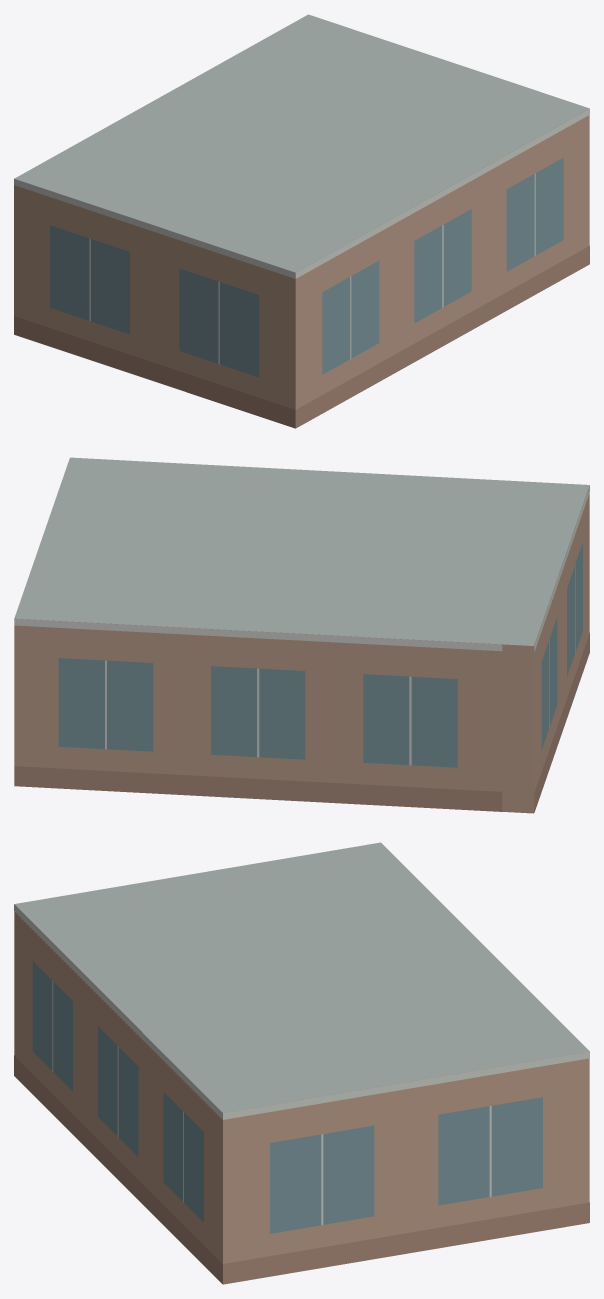
File: survey-upis-32772596.glb
The picture shows the model from 3 angles, top to bottom: view 1: azimuth 30°, elevation 25°; view 2: azimuth 150°, elevation 25°; view 3: azimuth 270°, elevation 25°; orthographic projection. The views are drawn at different scales.
Parts seen in each view (by area): view 1: survey-upis-32772596.tmp; view 2: survey-upis-32772596.tmp; view 3: survey-upis-32772596.tmp.
Part boxes in pixels (x1,y1,x2,y2): survey-upis-32772596.tmp: [14, 14, 589, 428]; survey-upis-32772596.tmp: [14, 457, 589, 813]; survey-upis-32772596.tmp: [14, 842, 589, 1284].
Bounding box in the file's own units: 13.88 × 4.1 × 12.48.
